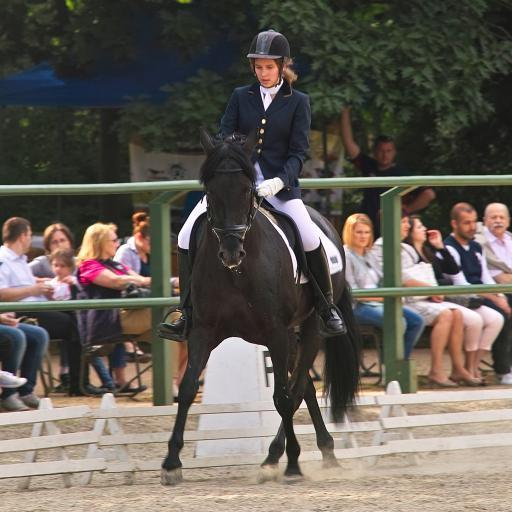horse: (157, 124, 365, 490)
